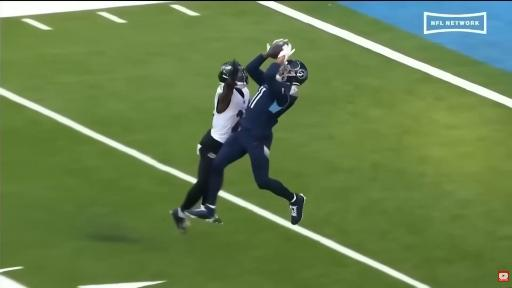Helmet: (277, 60, 308, 85), (218, 62, 233, 82)
Jersey: (241, 56, 297, 133), (211, 84, 249, 142)
Player: (187, 40, 307, 224), (171, 60, 249, 232)
